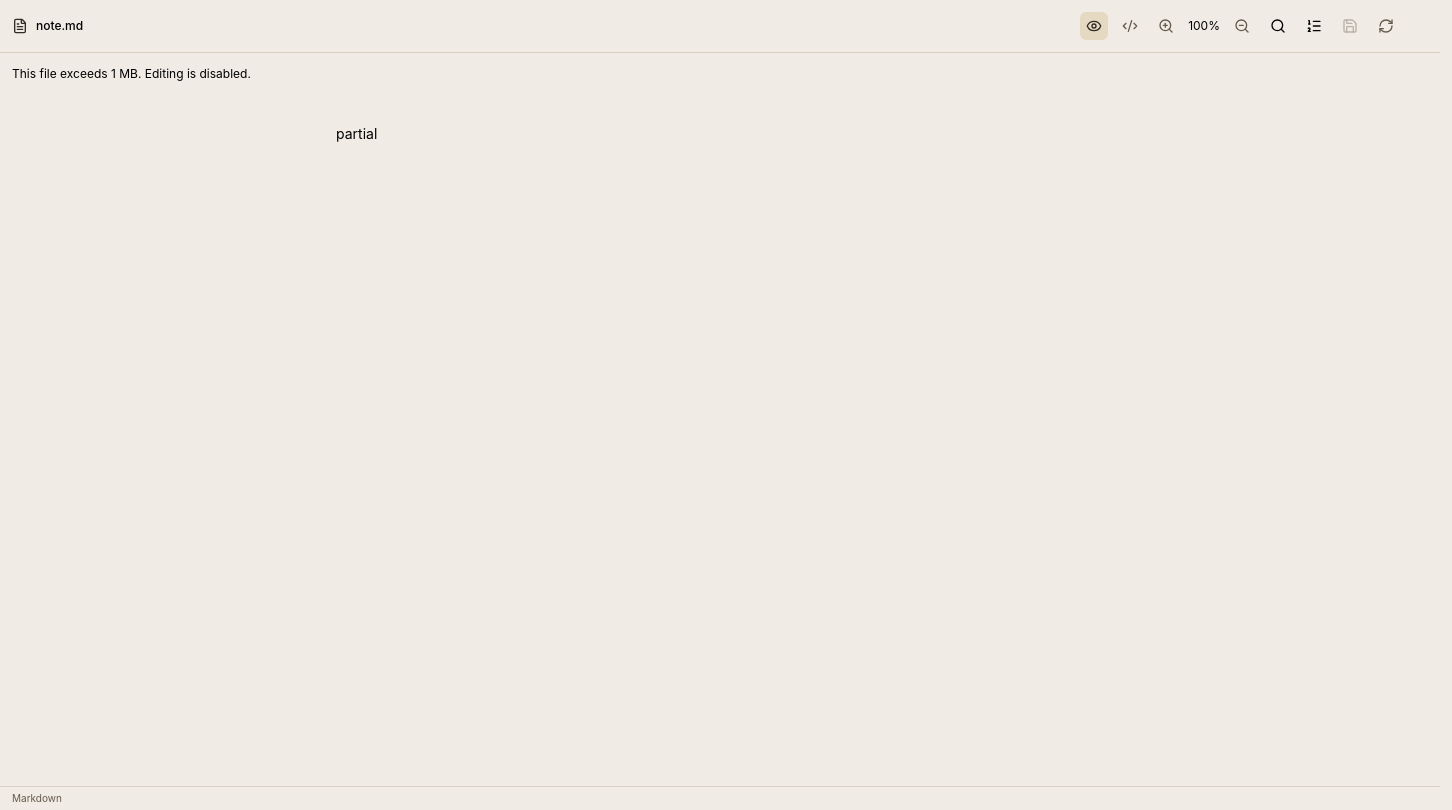
Scenario: Markdown editor › disables editing of truncated files
Expected: the text "This file exceeds 1 MB. Editing is disabled." is shown, [12,66,251,81]
Click the button named "Edit" at [1130, 26], box [1116,12,1144,40]
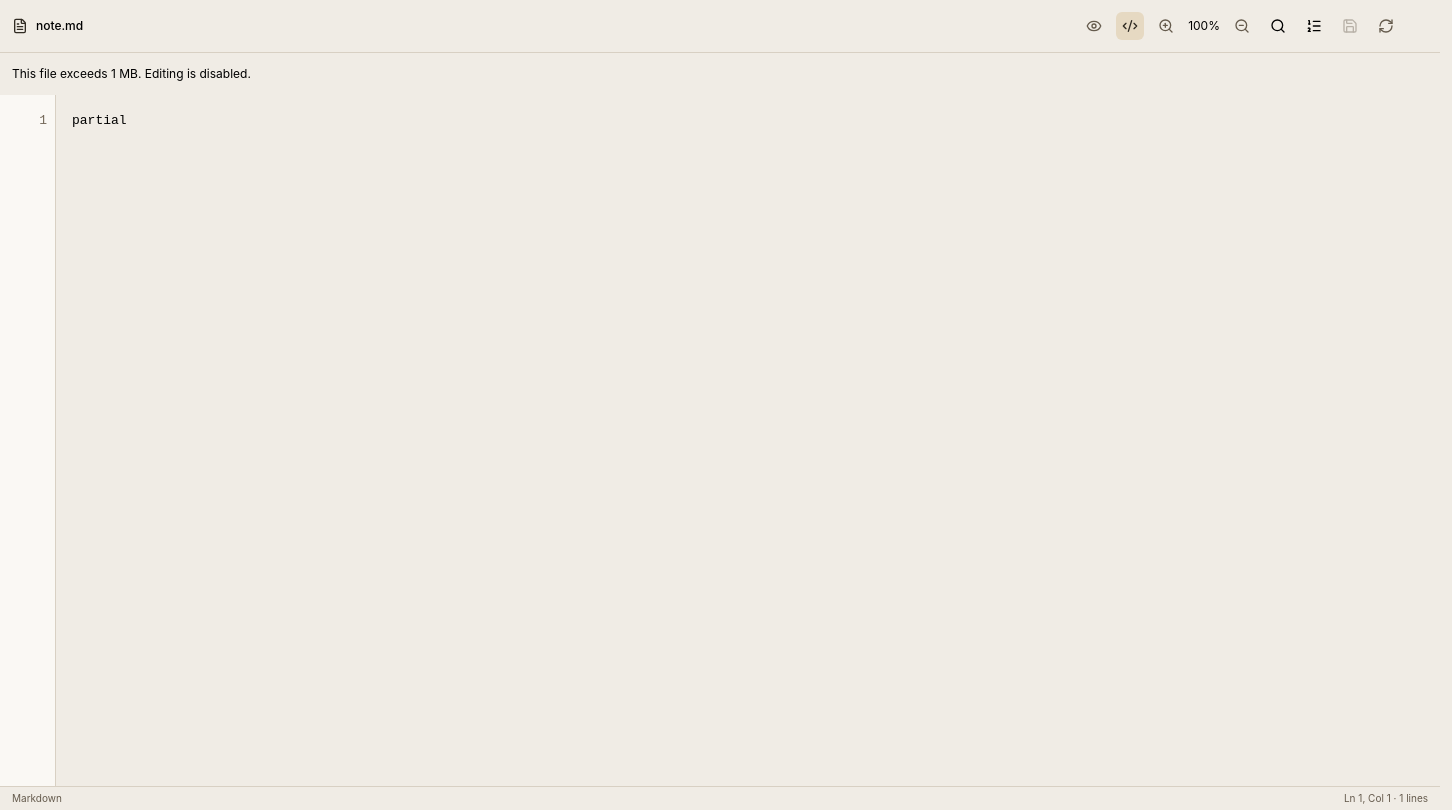
Expected: the text box is disabled
